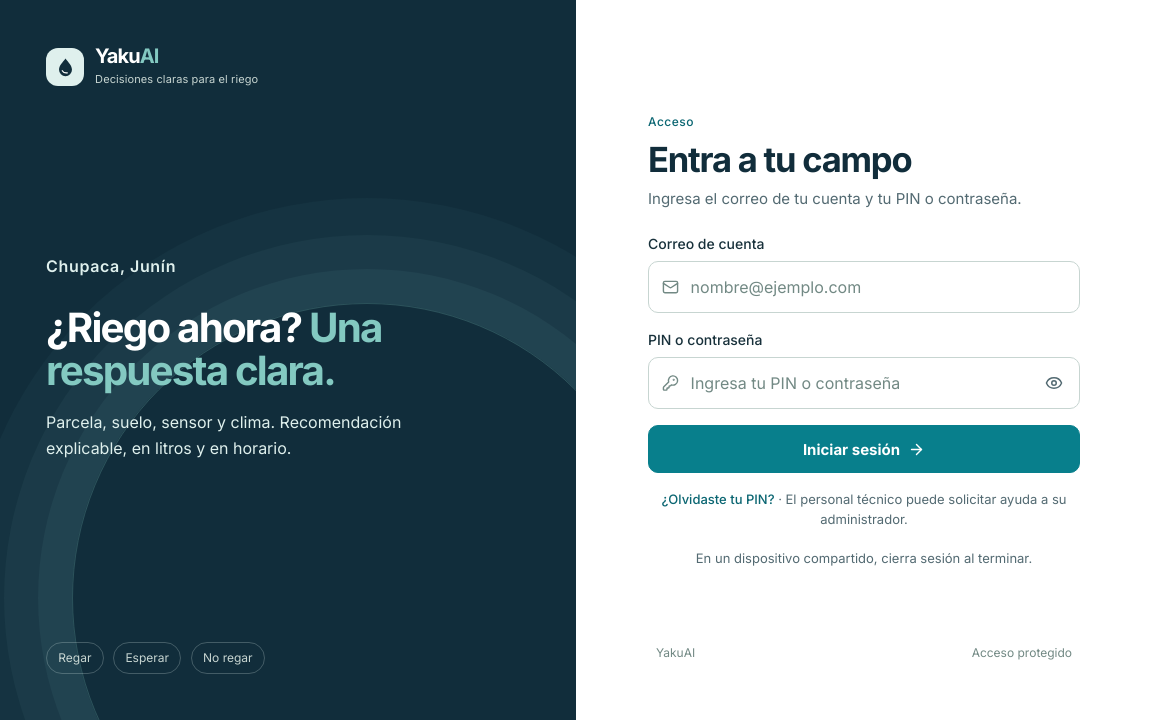
Test: Ingreso › muestra alerta comprensible ante credenciales incorrectas
This screenshot has width=1152, height=720.
In the field labelled "Correo de cuenta": (864, 287) [648,261,1080,313], type "tecnico@yakuai.pe"
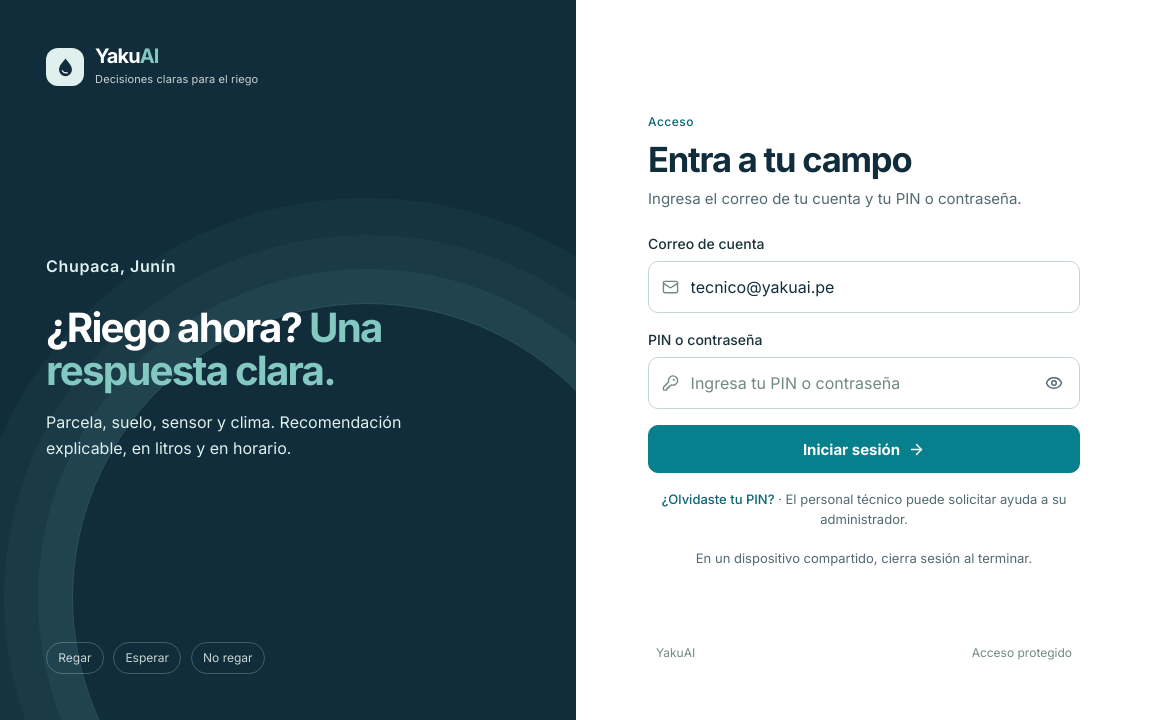
In the password field labelled "PIN o contraseña": (864, 383) [648,357,1080,409], type "clave123"
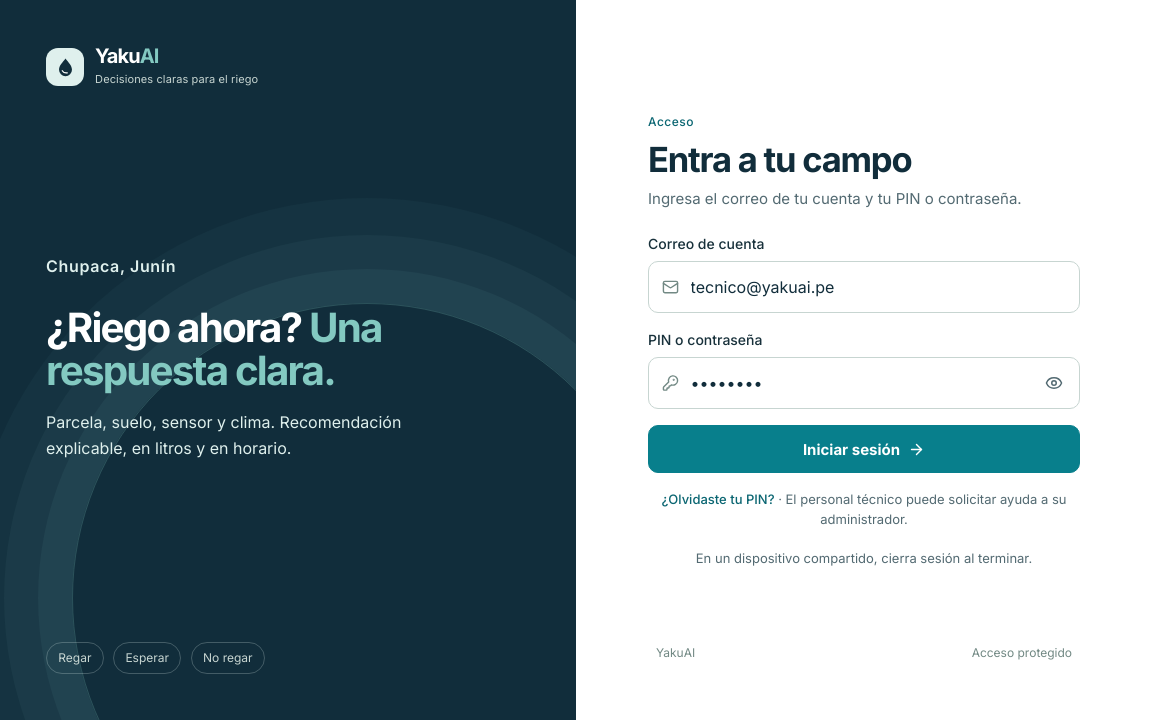
Click the button "Iniciar sesión": click(864, 449) [648,425,1080,473]
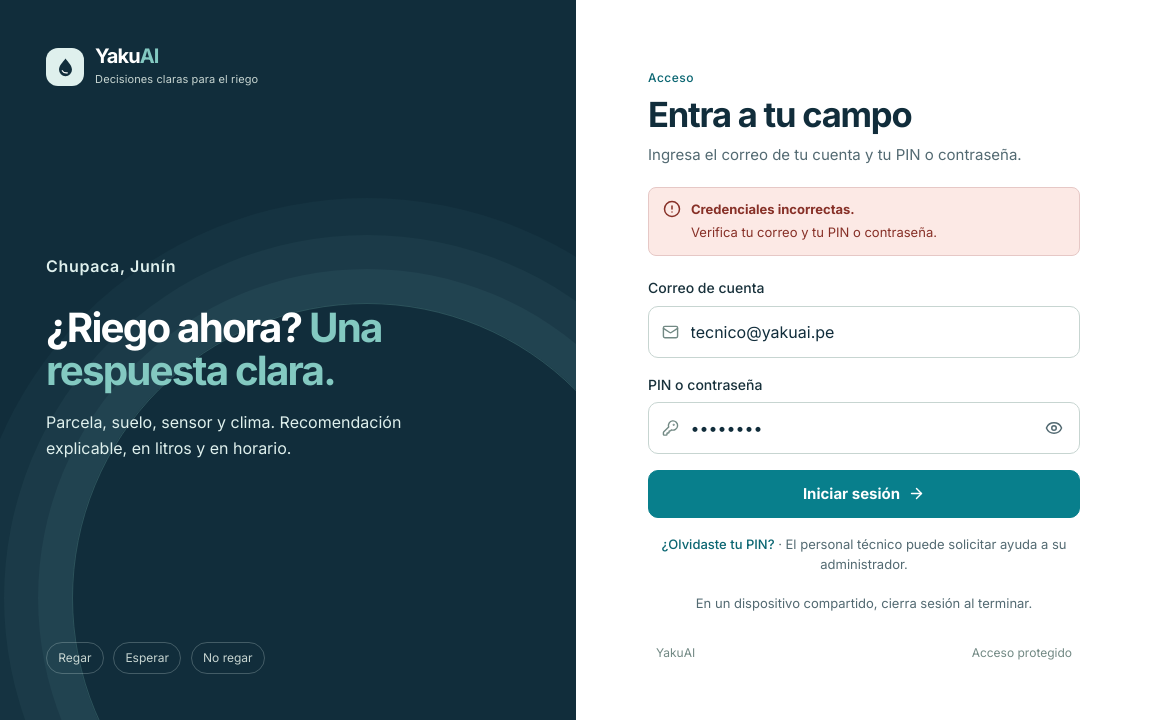
Now the message shows "Credenciales incorrectas.", box [691,201,855,217]
